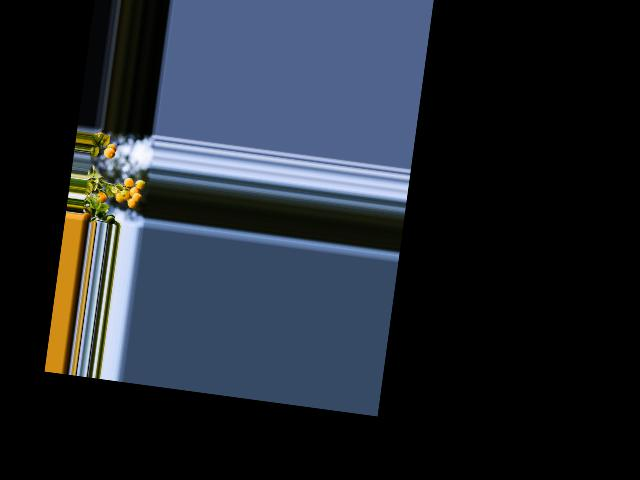lemon: (126, 196, 141, 208)
